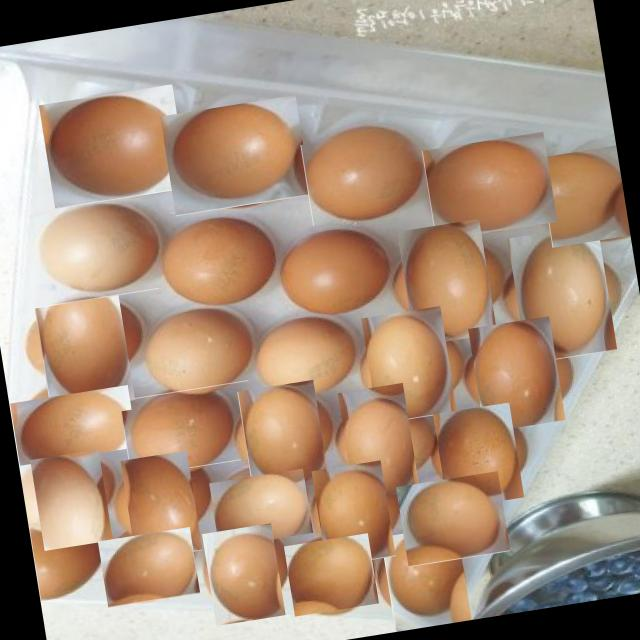eggs: (38, 84, 189, 209), (160, 95, 312, 216), (21, 198, 165, 308), (500, 232, 625, 357), (422, 132, 558, 242), (22, 282, 144, 404), (150, 212, 282, 318), (300, 126, 434, 227), (124, 303, 262, 399), (390, 225, 504, 339), (271, 226, 397, 324), (240, 312, 366, 410), (356, 311, 463, 418), (464, 322, 570, 428), (396, 471, 510, 567), (232, 384, 336, 488), (9, 385, 138, 467), (121, 393, 241, 478), (377, 530, 478, 630), (329, 392, 429, 493), (428, 406, 528, 506), (538, 145, 630, 249), (113, 456, 210, 554), (306, 466, 402, 562), (198, 528, 292, 622), (24, 454, 118, 546), (208, 468, 314, 548), (282, 532, 380, 618), (98, 527, 200, 608), (28, 514, 116, 602)
